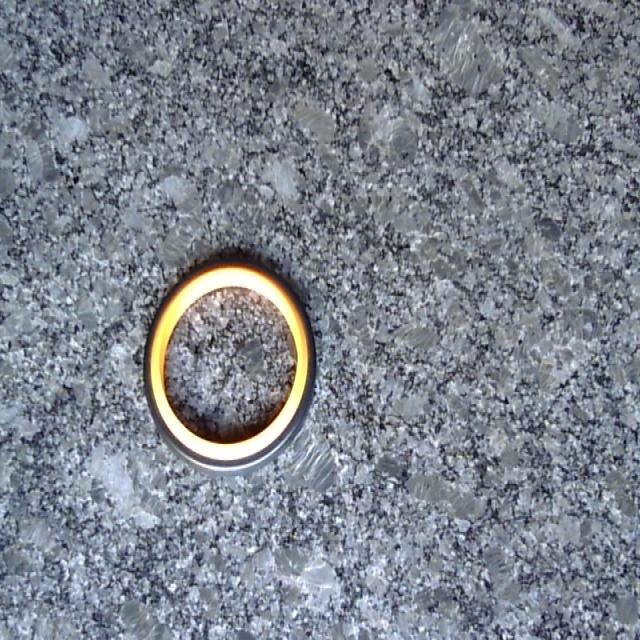orange-2-ring: (145, 258, 315, 473)
